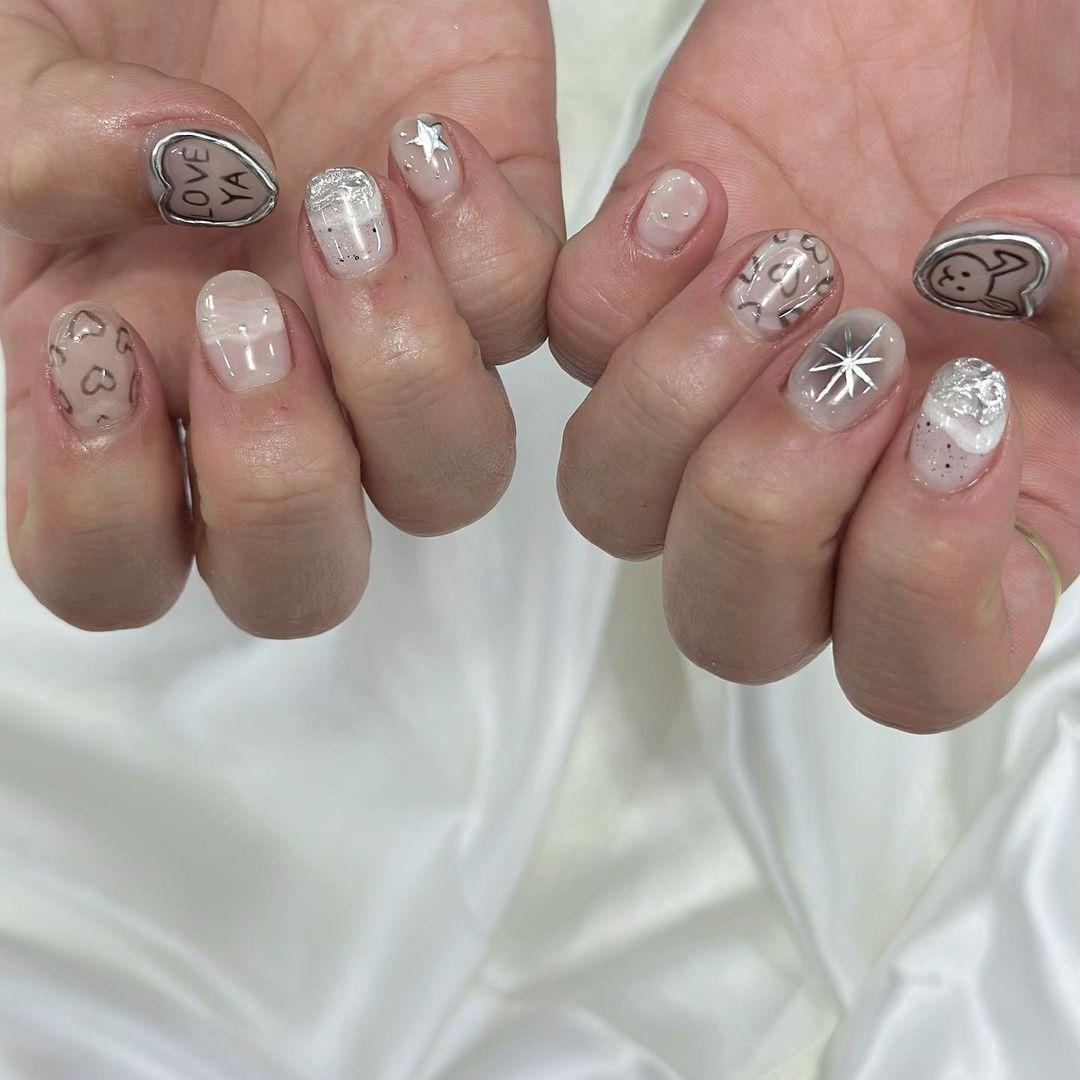nail: (911, 215, 1066, 320), (782, 306, 907, 433), (905, 355, 1010, 496), (721, 227, 841, 344), (144, 125, 279, 228), (44, 300, 141, 435), (193, 268, 293, 392), (302, 164, 396, 279), (629, 165, 709, 260), (388, 112, 462, 207)
